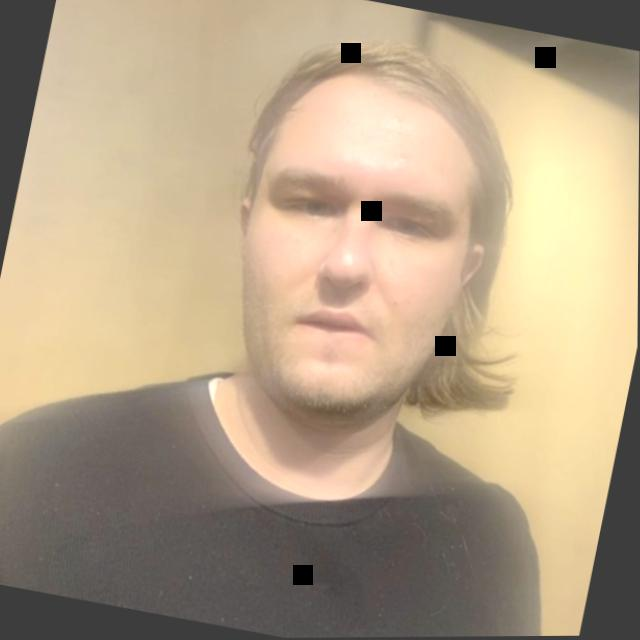NO-Mask: (150, 0, 587, 552)
